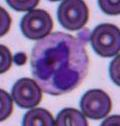N: (30, 32, 88, 94)
